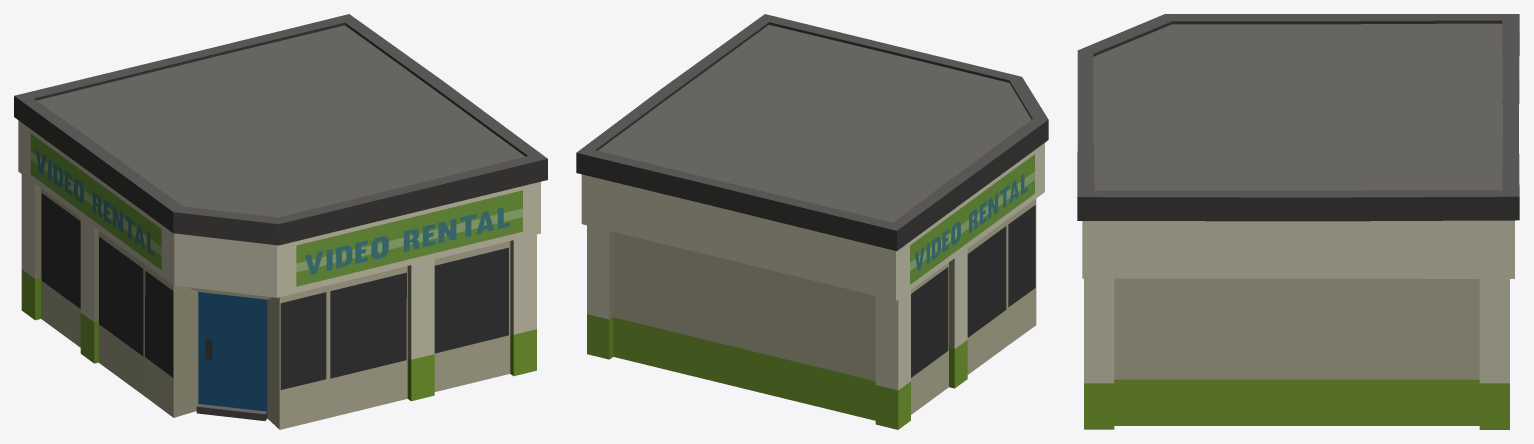
File: store_corner1.obj
The picture shows the model from 3 angles, left to right: view 1: azimuth 30°, elevation 25°; view 2: azimuth 150°, elevation 25°; view 3: azimuth 270°, elevation 25°; orthographic projection. The views are drawn at different scales.
Visible parts, largest first — view 1: ST_Building_StoreCorner_Video_Untitled.009; view 2: ST_Building_StoreCorner_Video_Untitled.009; view 3: ST_Building_StoreCorner_Video_Untitled.009.
Part boxes in pixels (<box>): ST_Building_StoreCorner_Video_Untitled.009: <box>14,14,547,429</box>; ST_Building_StoreCorner_Video_Untitled.009: <box>576,14,1048,429</box>; ST_Building_StoreCorner_Video_Untitled.009: <box>1077,14,1519,429</box>.
Size of the model in its own units: 11.06 by 6.66 by 11.26.
1 material, 1 textured.
